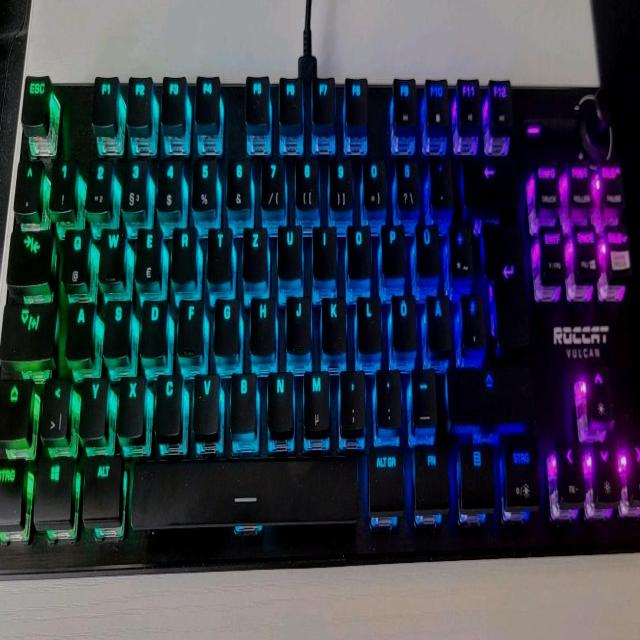0: (361, 151, 387, 208)
1: (47, 153, 75, 209)
2: (83, 154, 111, 211)
3: (119, 154, 146, 211)
4: (154, 152, 182, 211)
5: (190, 152, 216, 211)
6: (225, 152, 251, 209)
7: (259, 153, 285, 209)
8: (293, 153, 319, 208)
9: (327, 153, 353, 208)
a: (63, 297, 92, 357)
accent: (427, 151, 452, 208)
ae: (425, 291, 451, 350)
alt-left: (80, 448, 122, 522)
altgr-right: (365, 441, 404, 510)
b: (228, 367, 256, 431)
c: (152, 368, 181, 435)
caret: (11, 153, 41, 210)
comma: (337, 364, 365, 428)
d: (138, 294, 166, 356)
del: (460, 152, 517, 208)
e: (133, 222, 161, 283)
enter: (480, 217, 528, 346)
f: (175, 294, 202, 353)
g: (211, 294, 238, 353)
h: (247, 292, 274, 353)
hash: (459, 287, 485, 347)
i: (311, 221, 336, 276)
j: (284, 291, 310, 350)
k: (319, 292, 346, 351)
keyboard: (0, 58, 640, 574)
l: (355, 291, 381, 350)
less: (38, 372, 69, 438)
m: (301, 365, 329, 431)
minus: (409, 363, 436, 425)
n: (266, 366, 293, 431)
o: (345, 220, 370, 275)
oe: (389, 290, 416, 349)
p: (380, 219, 405, 274)
plus: (446, 218, 473, 276)
point: (374, 363, 401, 425)
q: (60, 223, 88, 285)
r: (168, 222, 196, 280)
s: (101, 295, 129, 356)
shift-left: (0, 373, 30, 437)
shift-lock: (0, 296, 57, 357)
shift-right: (443, 362, 533, 423)
space: (127, 451, 361, 526)
ss: (394, 152, 419, 209)
strg-left: (0, 461, 27, 525)
strg-right: (500, 436, 540, 507)
t: (205, 223, 231, 280)
tab: (5, 223, 53, 282)
u: (276, 220, 302, 277)
ue: (414, 217, 439, 273)
v: (191, 368, 219, 434)
w: (97, 221, 125, 281)
x: (115, 371, 144, 437)
y: (77, 372, 106, 437)
z: (241, 222, 266, 279)
